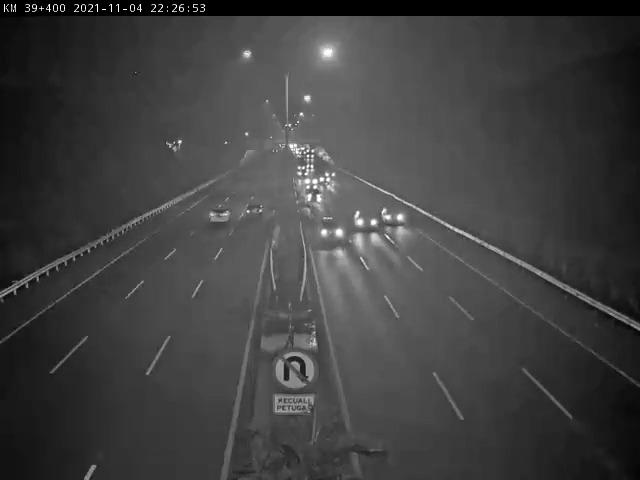car: (317, 216, 342, 242), (354, 207, 379, 232), (207, 204, 232, 224), (381, 204, 402, 227), (243, 201, 268, 220)
